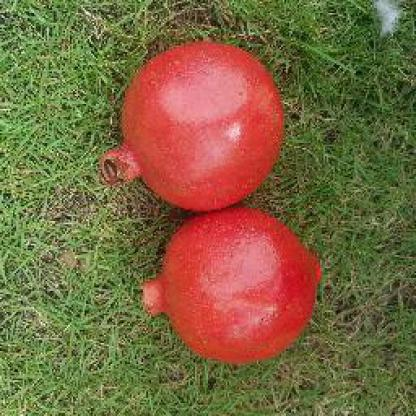pomegranate: (110, 40, 284, 211), (143, 208, 319, 364)
